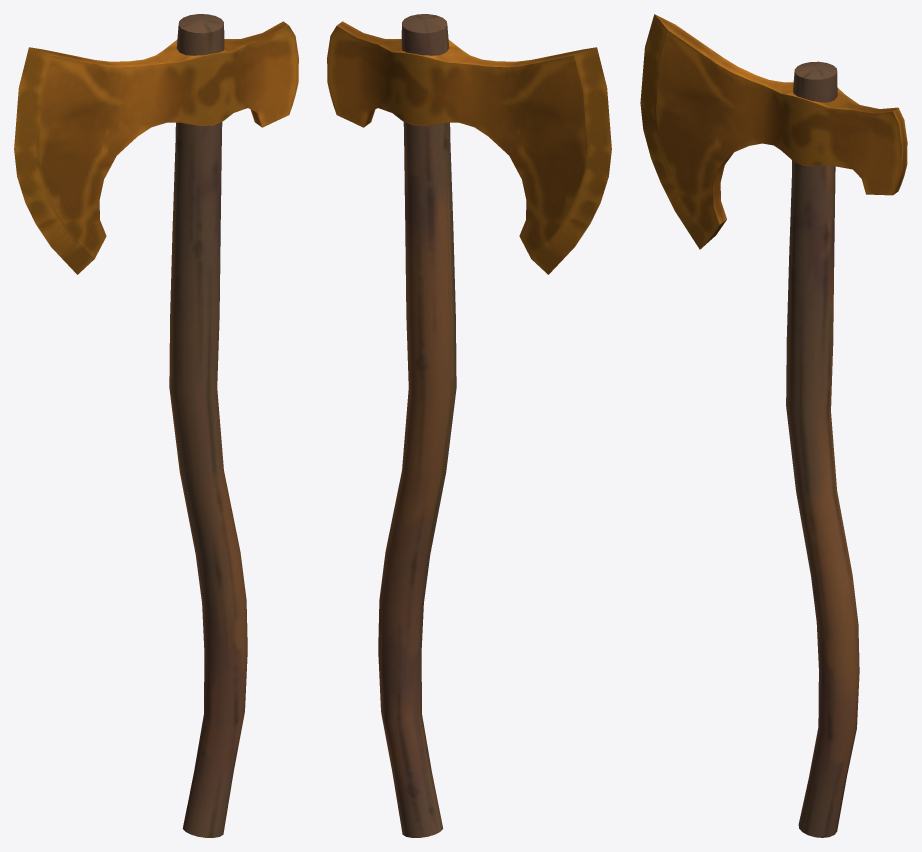
Rendered from Axe_Bronze.gltf.
The picture shows the model from 3 angles, left to right: view 1: azimuth 30°, elevation 25°; view 2: azimuth 150°, elevation 25°; view 3: azimuth 330°, elevation 25°; orthographic projection. The views are drawn at different scales.
Visible parts, largest first — view 1: Axe_Bronze; view 2: Axe_Bronze; view 3: Axe_Bronze.
Part boxes in pixels (left/top/right/bottom): Axe_Bronze: left=14, top=14, right=298, bottom=837; Axe_Bronze: left=327, top=14, right=611, bottom=837; Axe_Bronze: left=640, top=14, right=907, bottom=837.
Size of the model in its own units: 0.2945 by 0.8269 by 0.046.
Materials: 1 (1 with a texture image).
